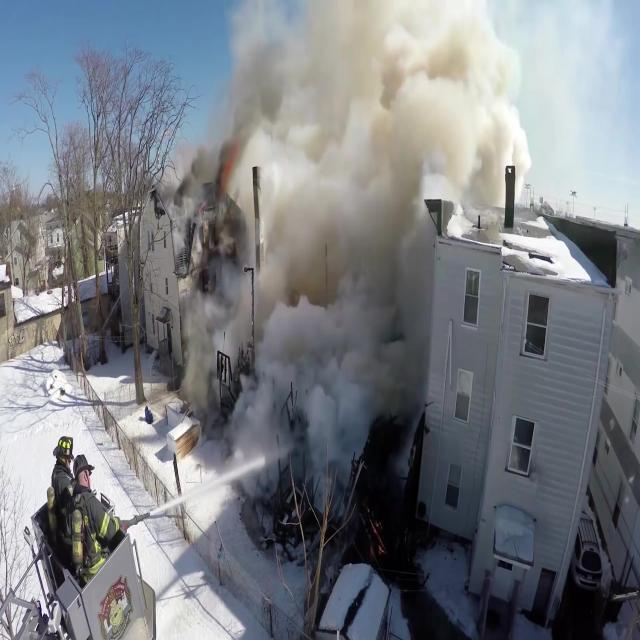Fire: (216, 141, 240, 195)
Smoke: (256, 34, 415, 420)
